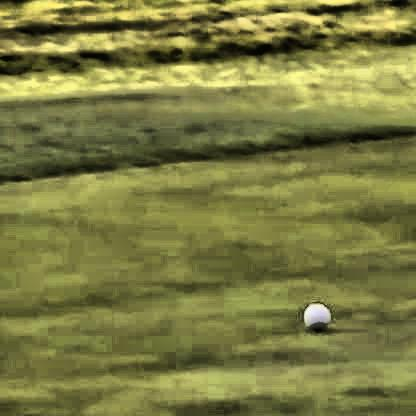golfball: (301, 300, 326, 328)
